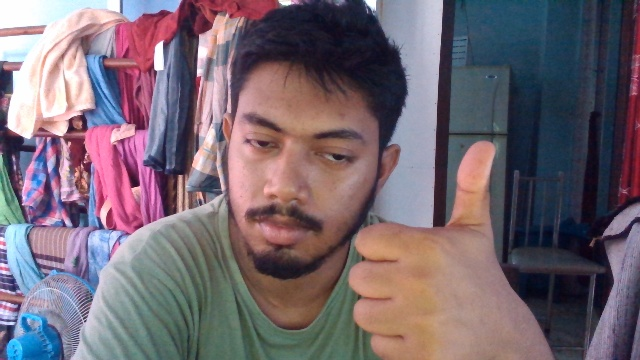yes: (355, 132, 512, 358)
